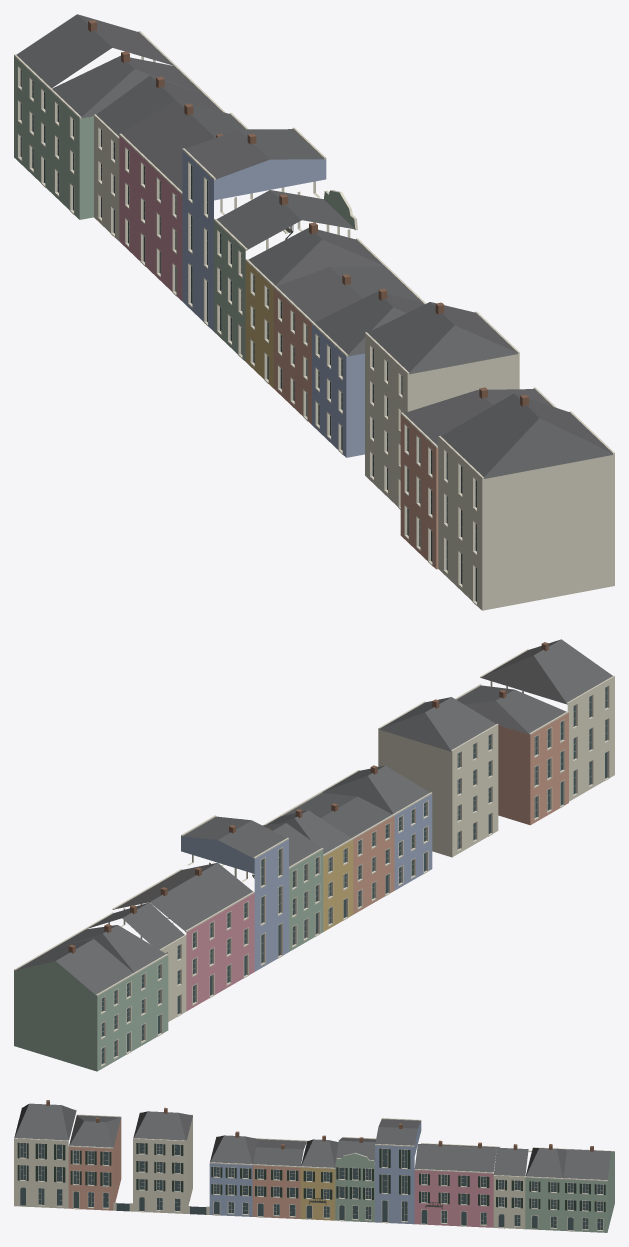
File: rainbow-row-charleston-near.glb
The picture shows the model from 3 angles, top to bottom: view 1: azimuth 30°, elevation 25°; view 2: azimuth 150°, elevation 25°; view 3: azimuth 270°, elevation 25°; orthographic projection. The views are drawn at different scales.
Visible parts, largest first — view 1: rainbow-row-charleston-0-roof, rainbow-row-charleston-0-cream, rainbow-row-charleston-0-trim, rainbow-row-charleston-0-blue, rainbow-row-charleston-0-green, rainbow-row-charleston-0-peach, rainbow-row-charleston-0-pink, rainbow-row-charleston-0-glass, rainbow-row-charleston-0-yellow, rainbow-row-charleston-0-brick; view 2: rainbow-row-charleston-0-roof, rainbow-row-charleston-0-green, rainbow-row-charleston-0-cream, rainbow-row-charleston-0-trim, rainbow-row-charleston-0-peach, rainbow-row-charleston-0-blue, rainbow-row-charleston-0-glass, rainbow-row-charleston-0-pink, rainbow-row-charleston-0-yellow, rainbow-row-charleston-0-brick; view 3: rainbow-row-charleston-0-roof, rainbow-row-charleston-0-glass, rainbow-row-charleston-0-trim, rainbow-row-charleston-0-cream, rainbow-row-charleston-0-shutter, rainbow-row-charleston-0-green, rainbow-row-charleston-0-peach, rainbow-row-charleston-0-blue, rainbow-row-charleston-0-pink, rainbow-row-charleston-0-yellow, rainbow-row-charleston-0-brick.
Boxes of the visible parts, box(x1,y1,x2,y2) form: rainbow-row-charleston-0-roof: box(16, 14, 612, 478); rainbow-row-charleston-0-cream: box(94, 117, 614, 610); rainbow-row-charleston-0-trim: box(14, 31, 614, 605); rainbow-row-charleston-0-blue: box(182, 150, 364, 457); rainbow-row-charleston-0-green: box(14, 56, 355, 361); rainbow-row-charleston-0-peach: box(273, 288, 438, 569); rainbow-row-charleston-0-pink: box(119, 136, 182, 300); rainbow-row-charleston-0-glass: box(20, 69, 476, 601); rainbow-row-charleston-0-yellow: box(245, 261, 273, 388); rainbow-row-charleston-0-brick: box(88, 20, 528, 406); rainbow-row-charleston-0-roof: box(16, 639, 612, 994); rainbow-row-charleston-0-green: box(14, 849, 323, 1071); rainbow-row-charleston-0-cream: box(161, 677, 614, 1021); rainbow-row-charleston-0-trim: box(14, 649, 614, 1066); rainbow-row-charleston-0-peach: box(353, 713, 568, 914); rainbow-row-charleston-0-blue: box(181, 794, 432, 971); rainbow-row-charleston-0-glass: box(101, 687, 607, 1064); rainbow-row-charleston-0-pink: box(186, 893, 254, 1011); rainbow-row-charleston-0-yellow: box(323, 840, 353, 931); rainbow-row-charleston-0-brick: box(68, 642, 548, 953); rainbow-row-charleston-0-roof: box(14, 1103, 610, 1179); rainbow-row-charleston-0-glass: box(20, 1143, 602, 1230); rainbow-row-charleston-0-trim: box(14, 1107, 614, 1231); rainbow-row-charleston-0-cream: box(14, 1117, 525, 1229); rainbow-row-charleston-0-shutter: box(17, 1142, 605, 1211); rainbow-row-charleston-0-green: box(335, 1151, 614, 1232); rainbow-row-charleston-0-peach: box(68, 1118, 300, 1218); rainbow-row-charleston-0-blue: box(209, 1121, 421, 1224); rainbow-row-charleston-0-pink: box(414, 1170, 493, 1227); rainbow-row-charleston-0-yellow: box(300, 1167, 335, 1220); rainbow-row-charleston-0-brick: box(46, 1100, 593, 1151).
Bounding box in the file's own units: 24.07 × 17.74 × 106.
